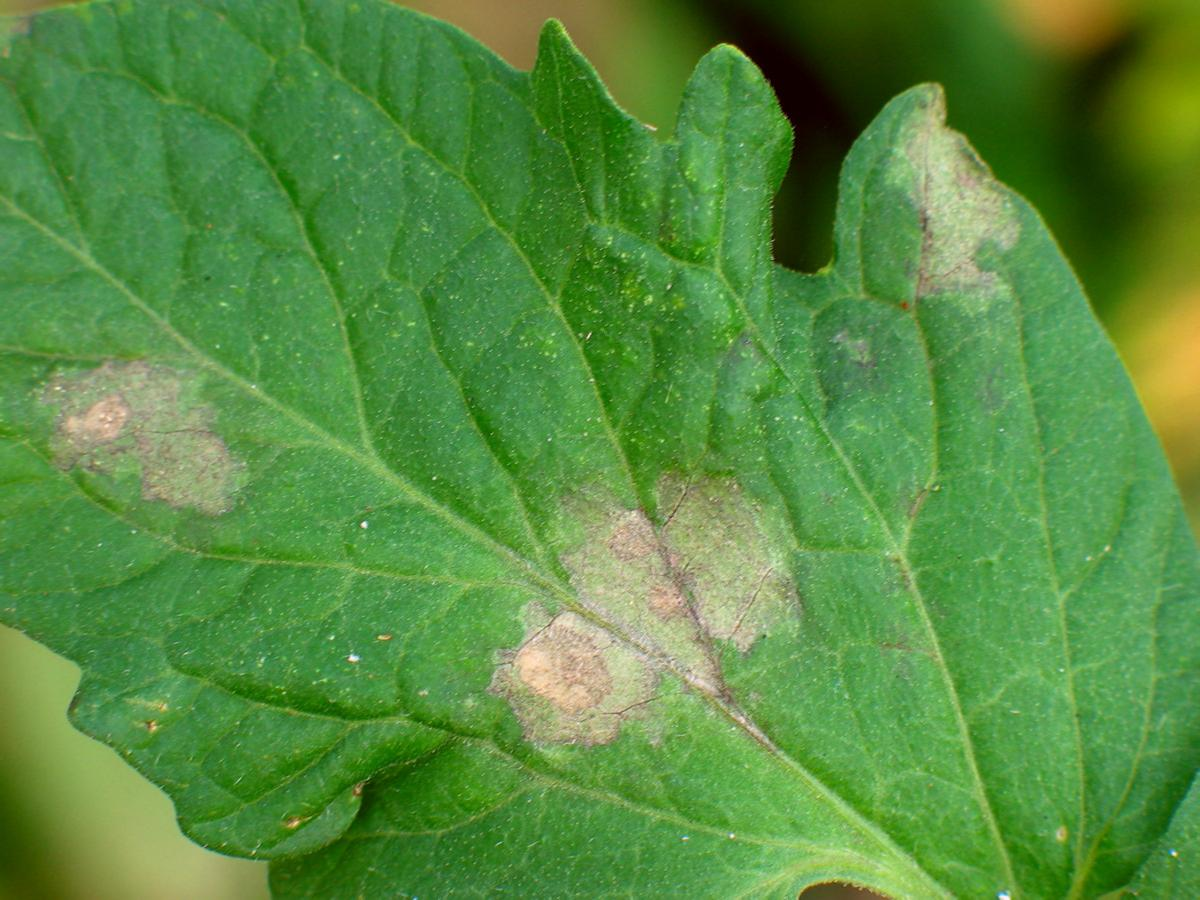Tomato leaf late blight: (6, 15, 1165, 882)
